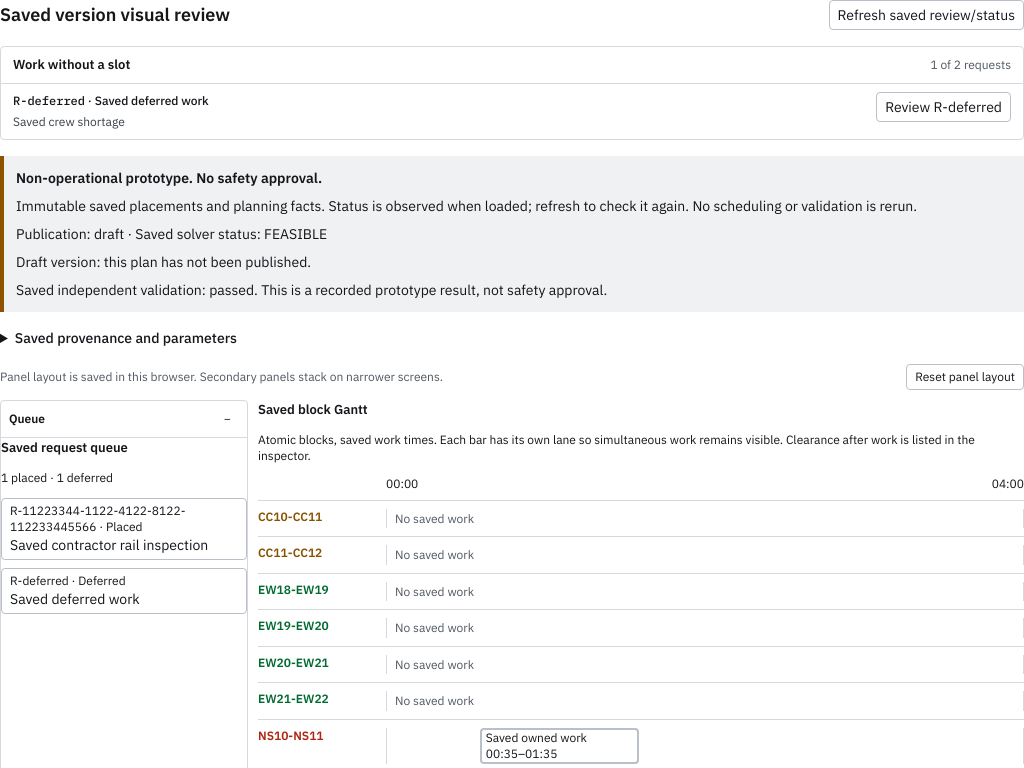
Test: saved snapshot visual review › lists work without a slot above the panels and opens it in the inspector
Expected: the element "Work without a slot" shows "1 of 2 requests", [0,46,1023,140]
Expected: the element "Work without a slot" shows "R-deferred", [13,92,85,108]
What coordinates should you click on to do the following:
click the button "Review R-deferred"
I would click on:
 (944, 106)
Its box is [876,92,1011,122].
(page scrolled)
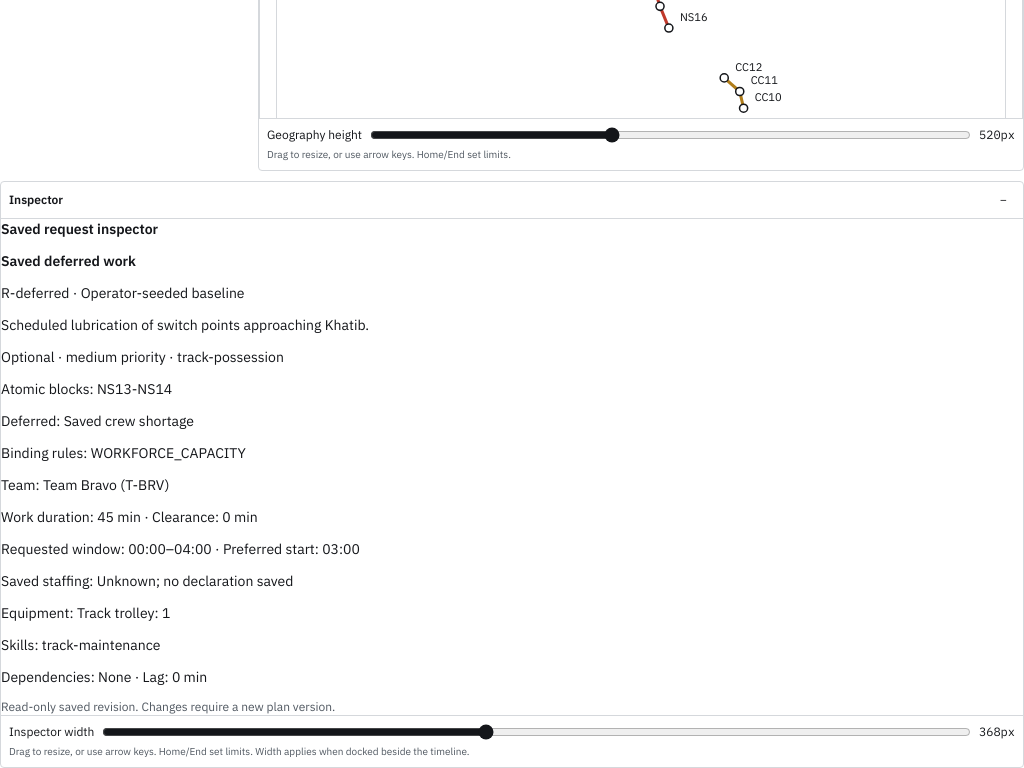
Now the element "Saved request inspector" shows "Saved crew shortage", box [64,412,194,430]
